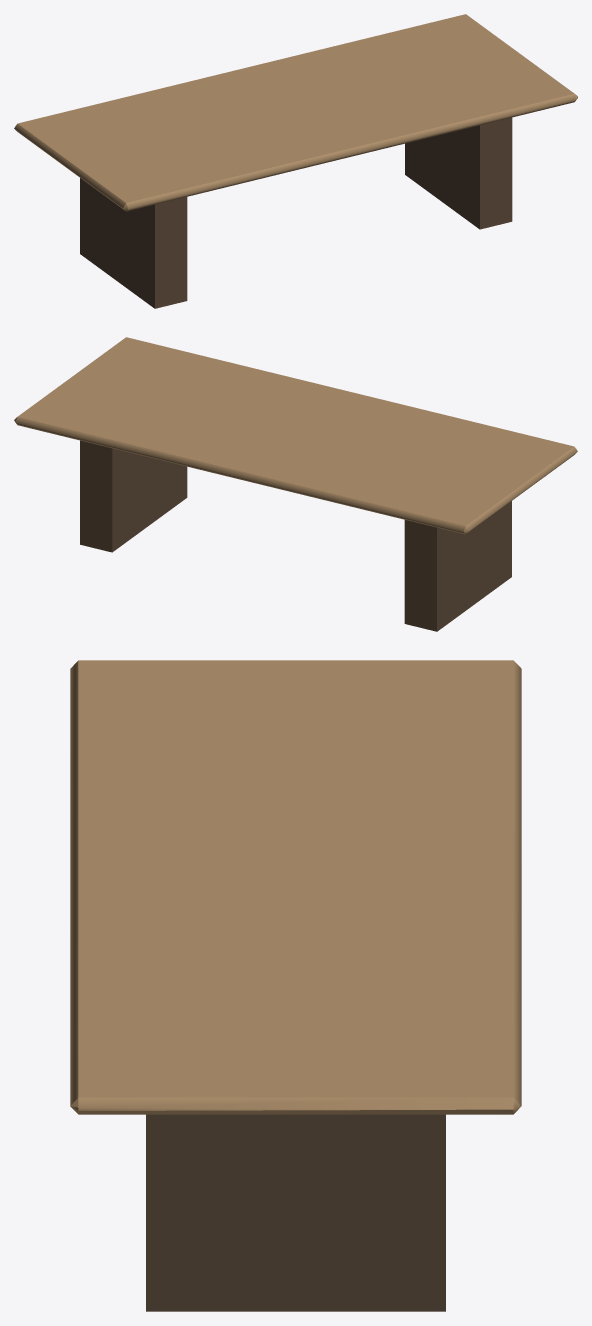
File: meeting_table_LOD1.glb
3 views of the same model, one above another, from view 1: azimuth 30°, elevation 25°; view 2: azimuth 150°, elevation 25°; view 3: azimuth 270°, elevation 25° (orthographic). The views are drawn at different scales.
Parts seen in each view (by area): view 1: Body_LOD1; view 2: Body_LOD1; view 3: Body_LOD1.
Part boxes in pixels (x1,y1,x2,y2): Body_LOD1: (14, 14, 577, 308); Body_LOD1: (14, 337, 577, 631); Body_LOD1: (70, 660, 521, 1311).
Bounding box in the file's own units: 2.8 × 0.76 × 1.2.
